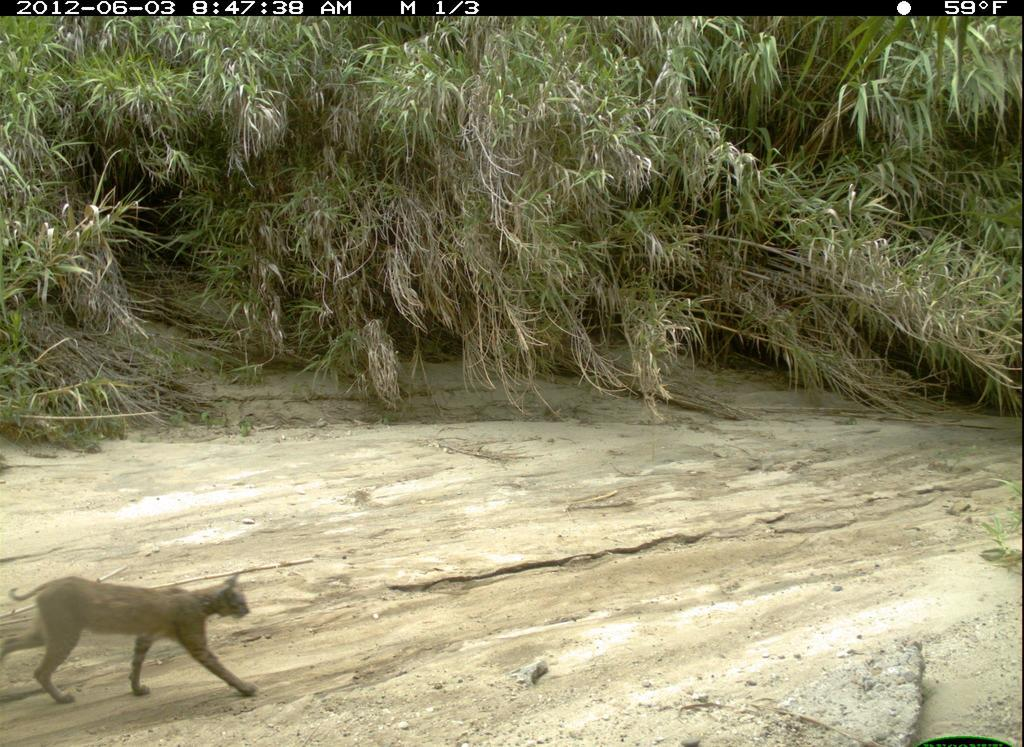bobcat: (4, 569, 265, 709)
